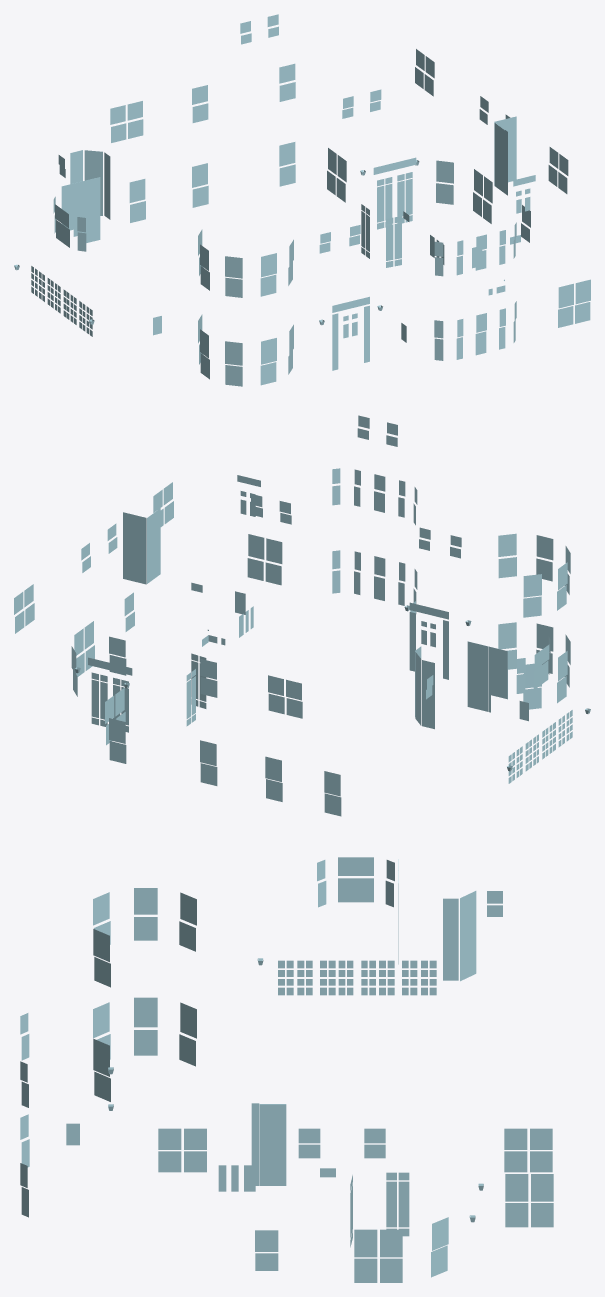
The model's file is Subsurfed_Porch.004.obj.
3 views of the same model, one above another, from view 1: azimuth 30°, elevation 25°; view 2: azimuth 150°, elevation 25°; view 3: azimuth 270°, elevation 25° (orthographic). The views are drawn at different scales.
Visible parts, largest first — view 1: Subsurfed_Porch.004_Cube.001; view 2: Subsurfed_Porch.004_Cube.001; view 3: Subsurfed_Porch.004_Cube.001.
Boxes of the visible parts, left/top/right/bottom form: Subsurfed_Porch.004_Cube.001: left=14, top=14, right=590, bottom=386; Subsurfed_Porch.004_Cube.001: left=14, top=415, right=590, bottom=816; Subsurfed_Porch.004_Cube.001: left=20, top=857, right=553, bottom=1282.
Bounding box in the file's own units: 18.49 × 10.1 × 16.26.
